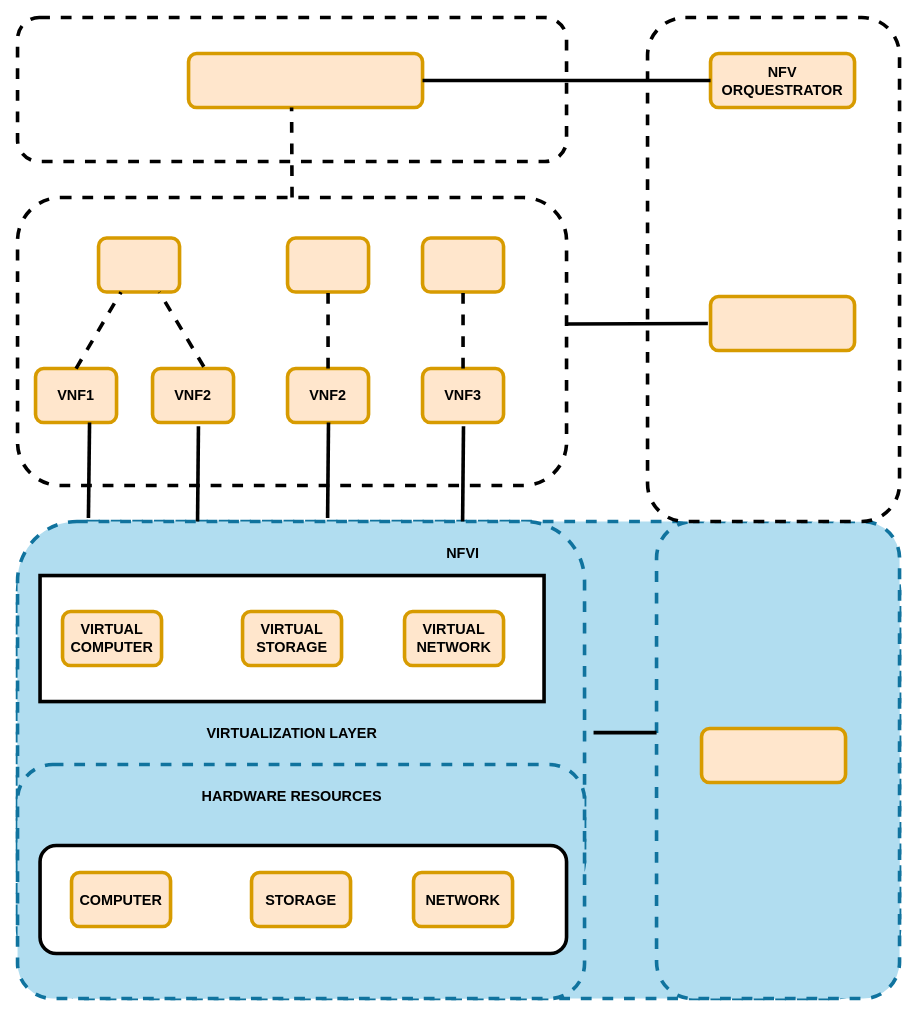
Some shapes in this 916 by 1015 pixel diagram are drawn without their labels. The centre of each missing label's shape, as x and y in pixels:
"EM1" belongs at point 138,264.
"EM2" belongs at point 327,264.
"EM3" belongs at point 462,264.
"OSS / BSS" belongs at point 305,80.
"VIRTUALIZED INFRASTRUCTURE MANAGER" belongs at point 773,755.
"VNF MANAGER" belongs at point 782,323.
